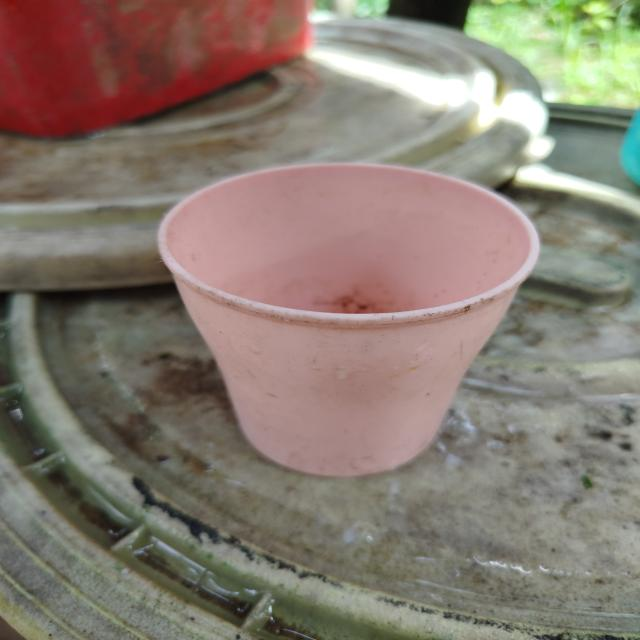plastic: (124, 151, 559, 491)
